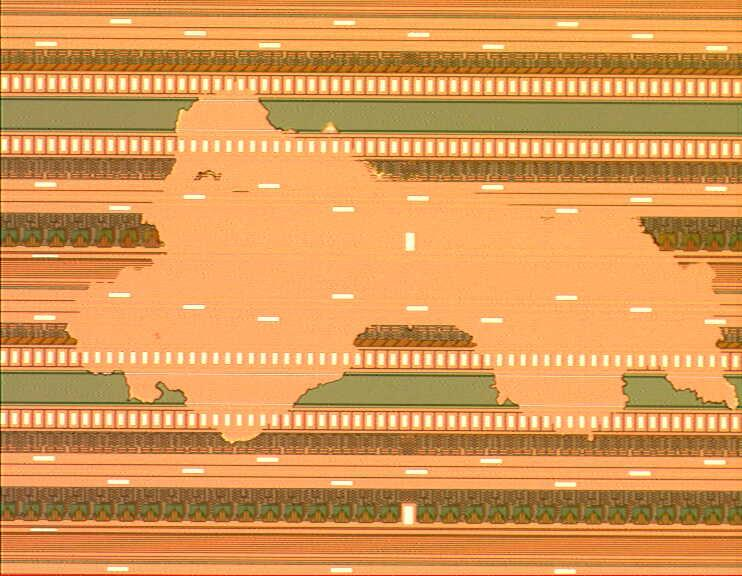BLOCK ETCH: (59, 73, 742, 457)
